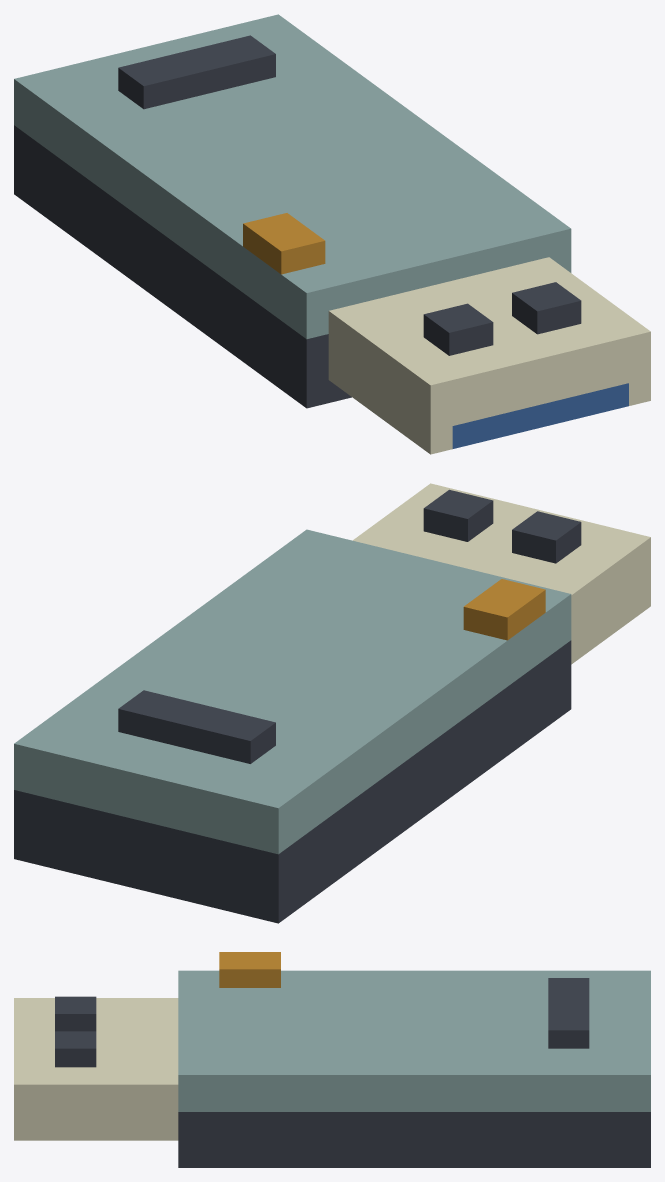
The model's file is voxel_32_30055.glb.
3 renders of one model, top to bottom at view 1: azimuth 30°, elevation 25°; view 2: azimuth 150°, elevation 25°; view 3: azimuth 270°, elevation 25°, orthographic. The views are drawn at different scales.
Parts seen in each view (by area): view 1: prop_30055; view 2: prop_30055; view 3: prop_30055.
Part boxes in pixels (x1,y1,x2,y2): prop_30055: [14, 14, 650, 454]; prop_30055: [14, 483, 650, 923]; prop_30055: [14, 952, 650, 1167].
Size of the model in its own units: 0.3113 by 0.1556 by 0.8041.
